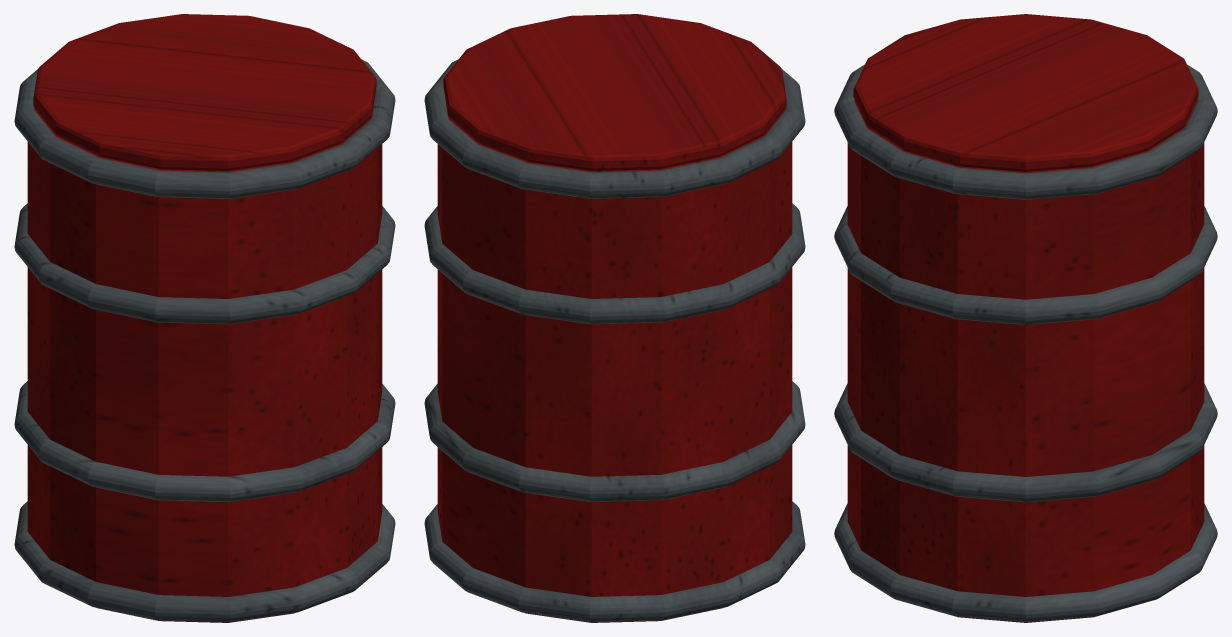
The model's file is PROP-9523B2D29DAD_lod0.glb.
3 renders of one model, left to right at view 1: azimuth 30°, elevation 25°; view 2: azimuth 150°, elevation 25°; view 3: azimuth 270°, elevation 25°, orthographic.
Parts seen in each view (by area): view 1: barrel_body.002, barrel_ribs.002, barrel_lid.002; view 2: barrel_body.002, barrel_ribs.002, barrel_lid.002; view 3: barrel_body.002, barrel_ribs.002, barrel_lid.002.
Part boxes in pixels (left/top/right/bottom): barrel_body.002: left=27, top=108, right=382, bottom=622; barrel_ribs.002: left=14, top=59, right=395, bottom=622; barrel_lid.002: left=33, top=14, right=376, bottom=170; barrel_body.002: left=437, top=108, right=792, bottom=622; barrel_ribs.002: left=424, top=59, right=805, bottom=622; barrel_lid.002: left=443, top=14, right=786, bottom=170; barrel_body.002: left=847, top=100, right=1204, bottom=622; barrel_ribs.002: left=834, top=64, right=1217, bottom=622; barrel_lid.002: left=853, top=14, right=1198, bottom=171.
Size of the model in its own units: 0.6664 by 0.89 by 0.6664.
Materials: 2 (2 with a texture image).
